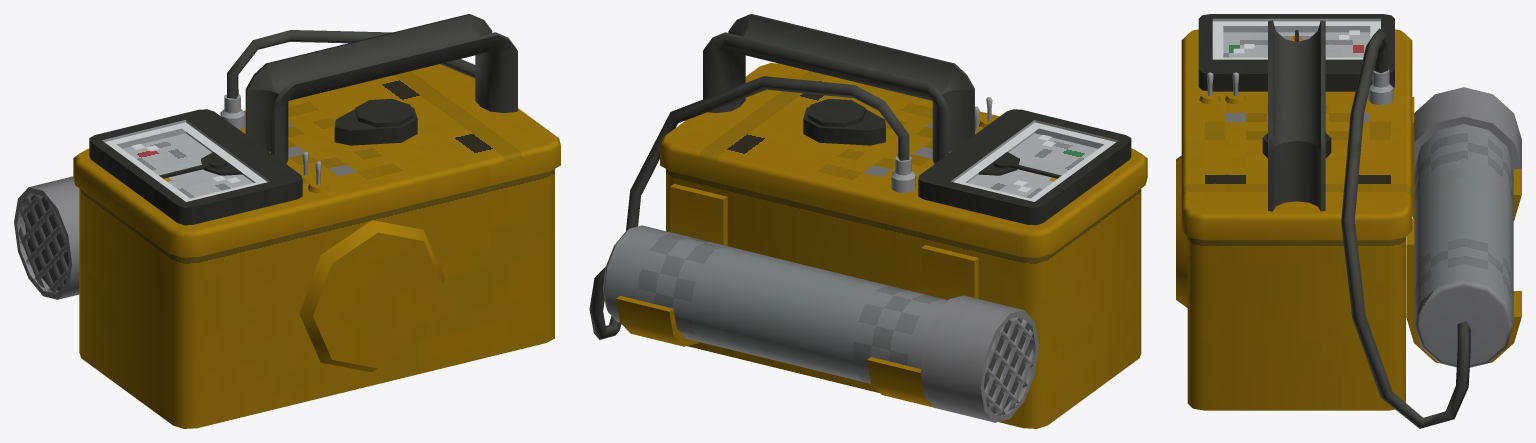
File: geiger_counter.obj
The picture shows the model from 3 angles, left to right: view 1: azimuth 30°, elevation 25°; view 2: azimuth 150°, elevation 25°; view 3: azimuth 270°, elevation 25°; orthographic projection.
Visible parts, largest first — view 1: geiger_counter; view 2: geiger_counter; view 3: geiger_counter.
Part boxes in pixels (<box>): geiger_counter: <box>14,14,560,428</box>; geiger_counter: <box>589,14,1147,428</box>; geiger_counter: <box>1176,14,1521,428</box>.
Bounding box in the file's own units: 0.7246 × 0.4514 × 0.4976.
